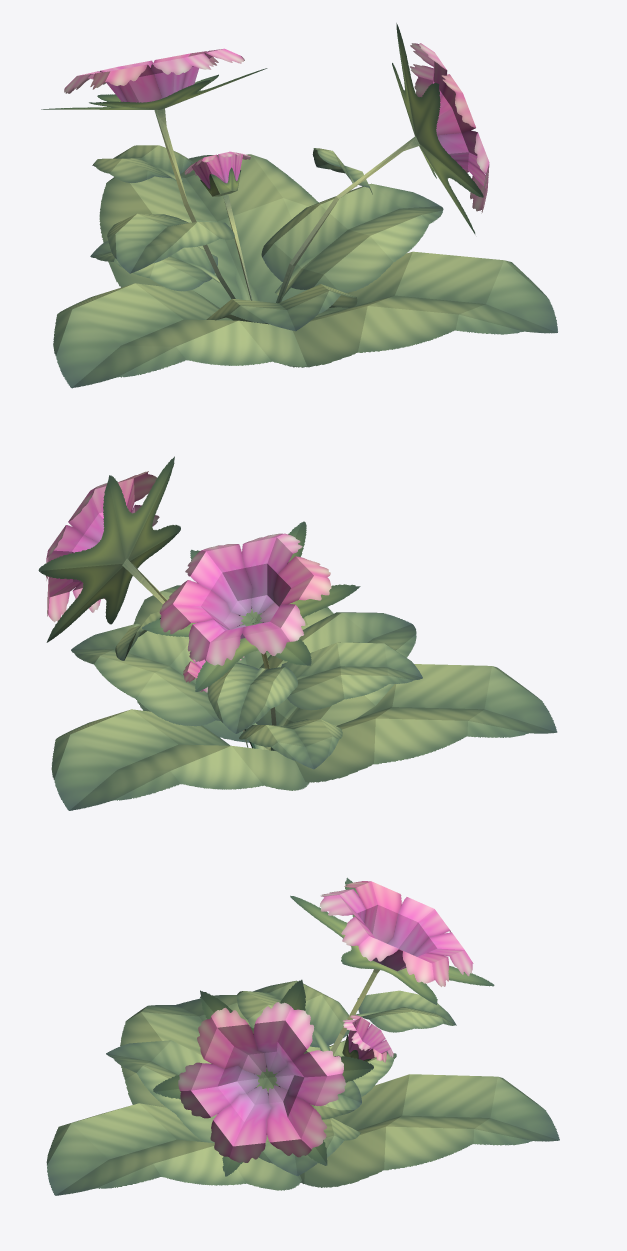
File: VEG0310008.fbx
3 renders of one model, top to bottom at view 1: azimuth 30°, elevation 25°; view 2: azimuth 150°, elevation 25°; view 3: azimuth 270°, elevation 25°, orthographic. The views are drawn at different scales.
Parts seen in each view (by area): view 1: smVEG0310008; view 2: smVEG0310008; view 3: smVEG0310008.
Part boxes in pixels (<box>): smVEG0310008: <box>41,23,557,388</box>; smVEG0310008: <box>38,456,557,810</box>; smVEG0310008: <box>46,877,559,1195</box>.
Size of the model in its own units: 58.44 by 32.14 by 63.03.
Materials: 1 (1 with a texture image).
